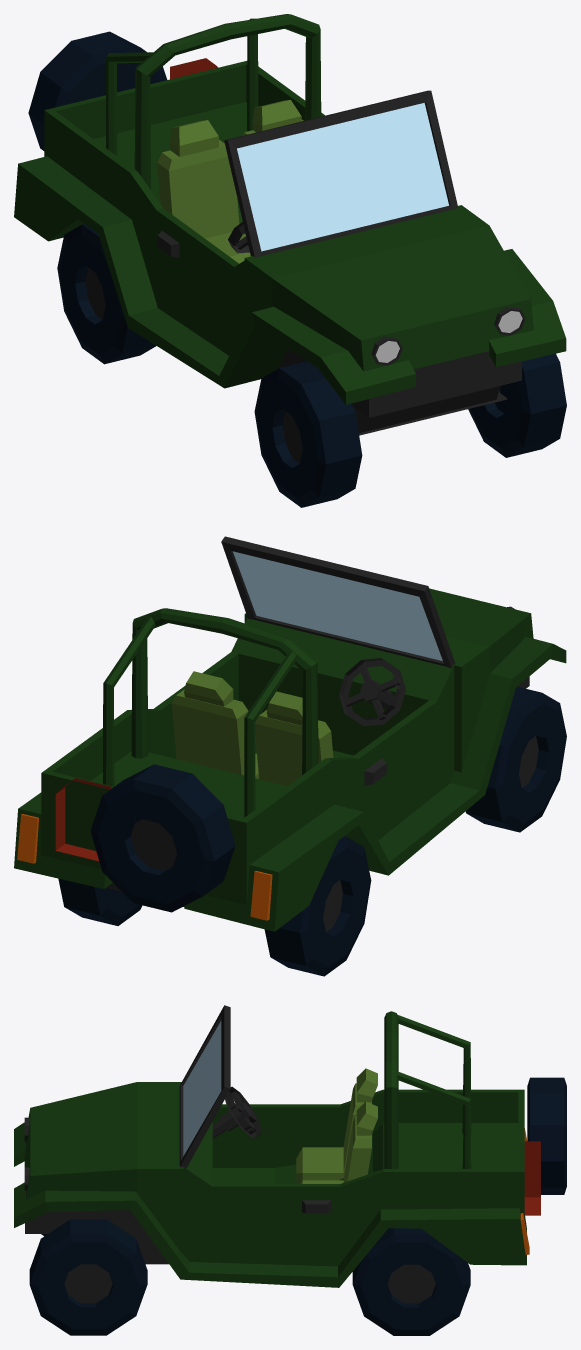
Rendered from Jeep.glb.
The picture shows the model from 3 angles, top to bottom: view 1: azimuth 30°, elevation 25°; view 2: azimuth 150°, elevation 25°; view 3: azimuth 270°, elevation 25°; orthographic projection. The views are drawn at different scales.
Visible parts, largest first — view 1: Jeep; view 2: Jeep; view 3: Jeep.
Boxes of the visible parts, x1,y1,x2,y2 form: Jeep: [14, 14, 566, 507]; Jeep: [14, 536, 566, 976]; Jeep: [14, 1005, 566, 1335].
Bounding box in the file's own units: 2.04 × 2.33 × 4.56.
